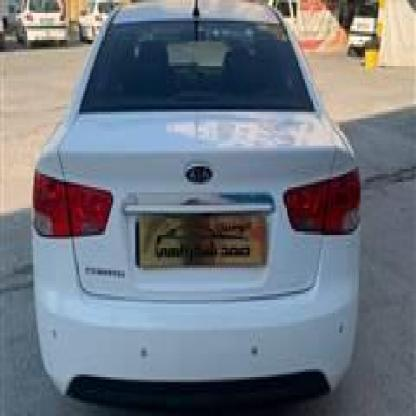Car: (30, 0, 360, 416), (15, 0, 60, 70), (85, 0, 118, 44)
